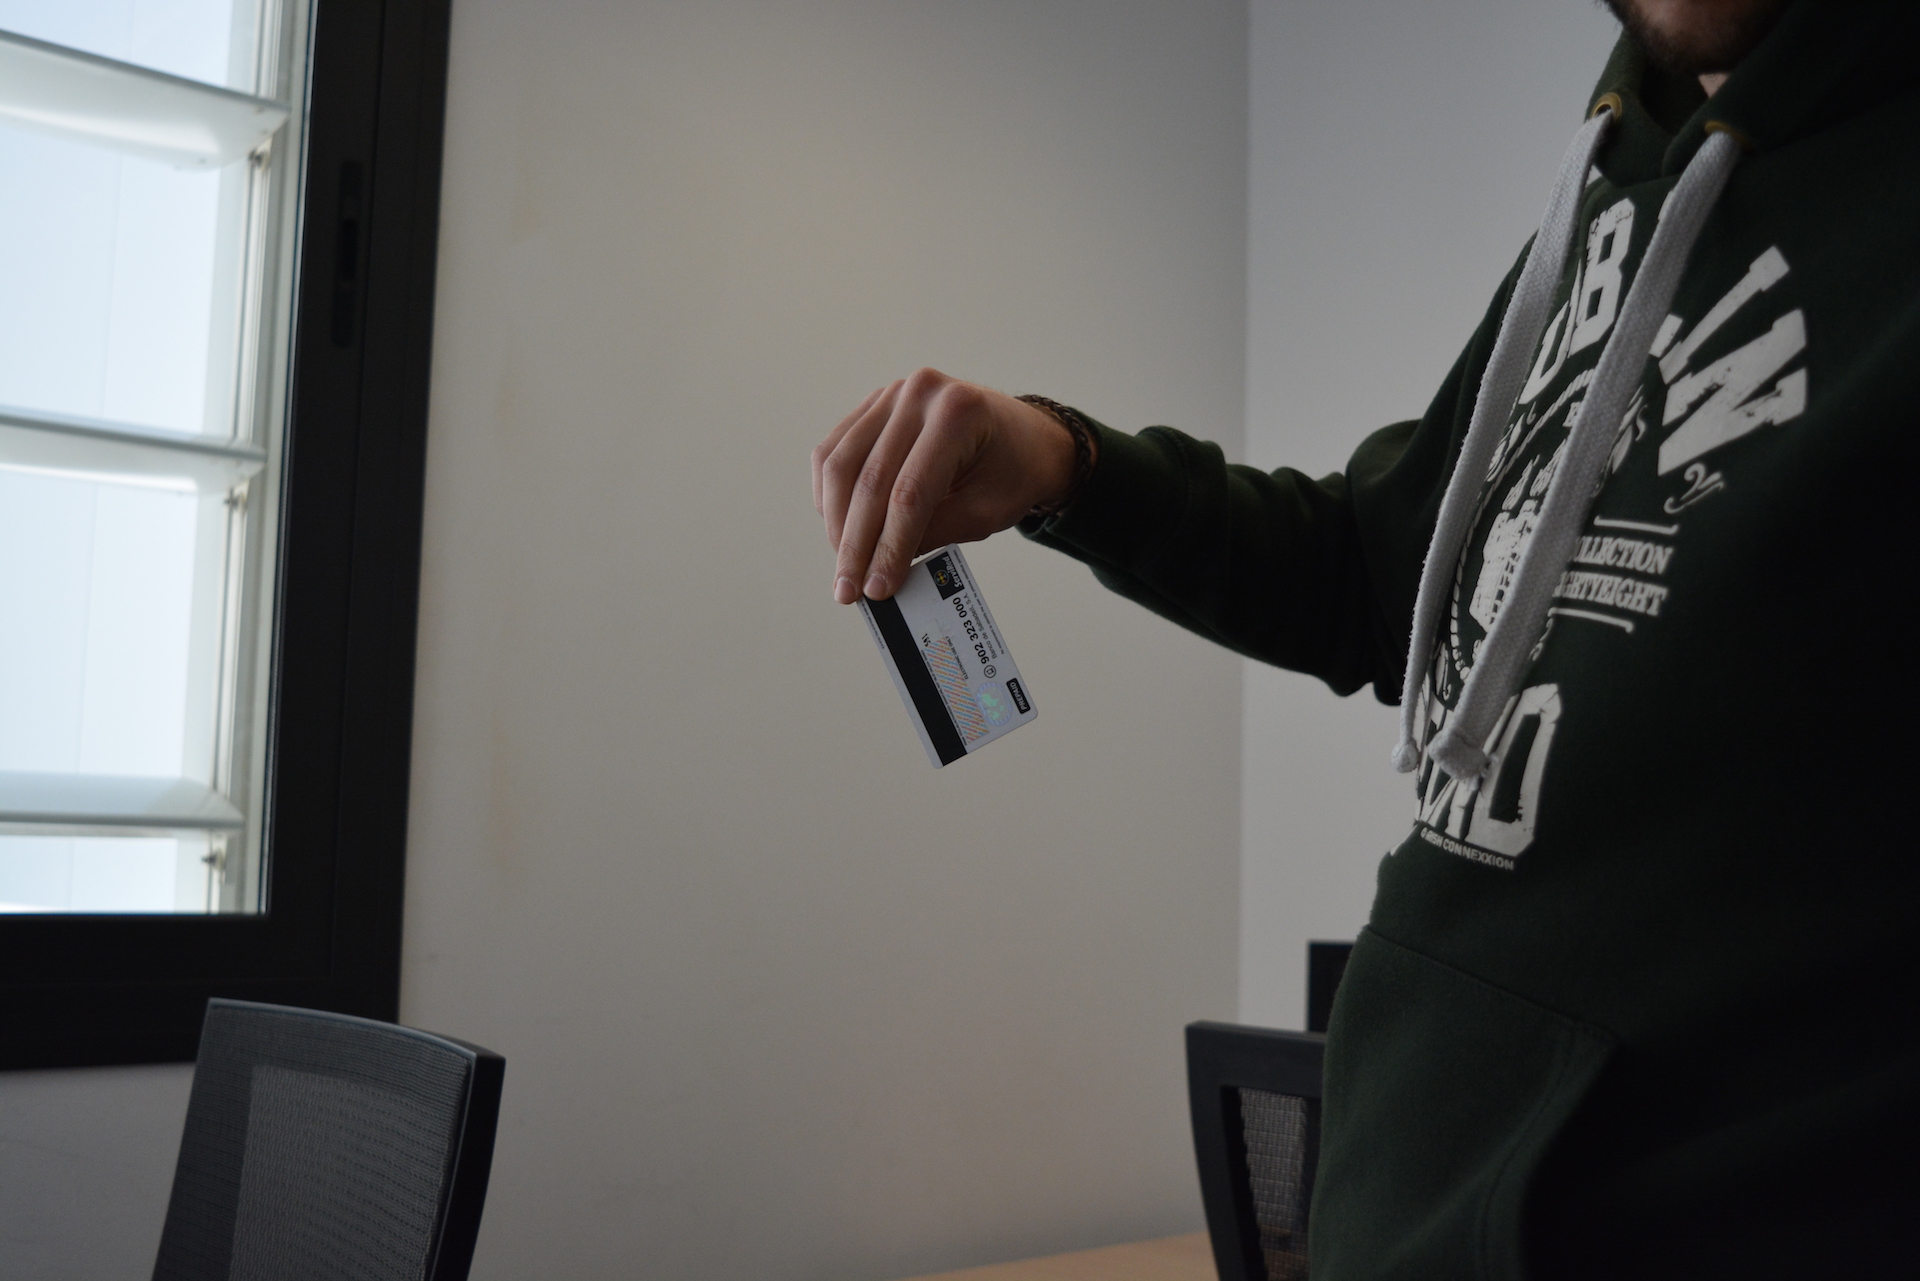tarjeta: (852, 539, 1039, 771)
